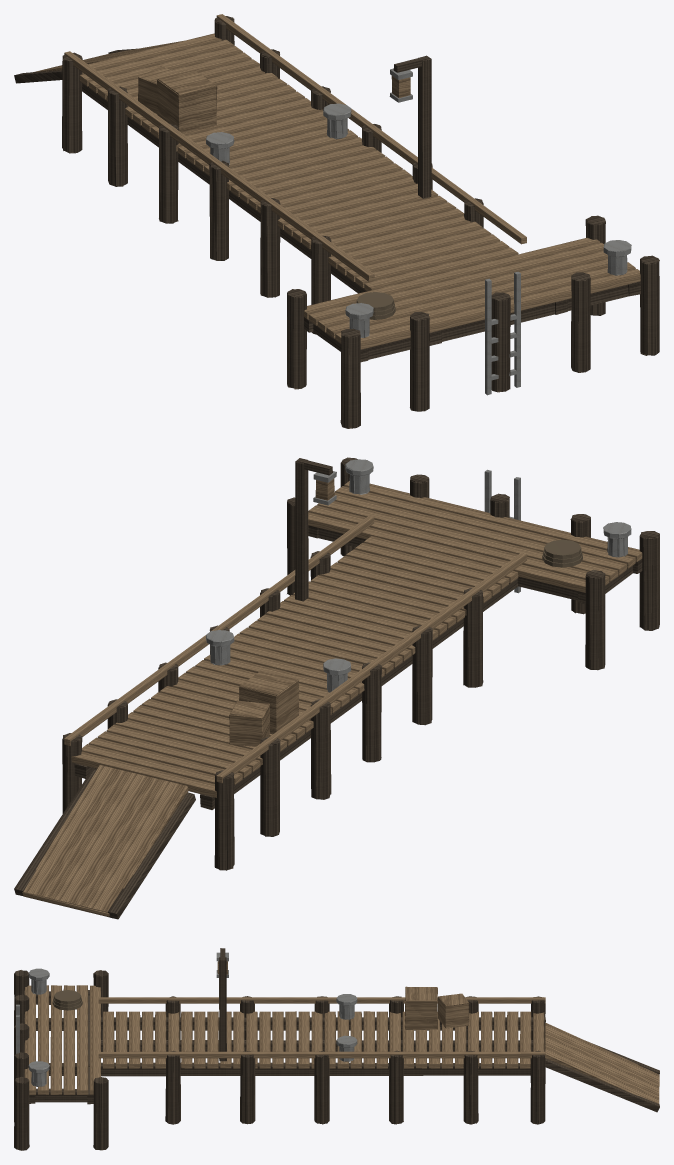
File: harbor_dock.glb
The picture shows the model from 3 angles, top to bottom: view 1: azimuth 30°, elevation 25°; view 2: azimuth 150°, elevation 25°; view 3: azimuth 270°, elevation 25°; orthographic projection. The views are drawn at different scales.
Visible parts, largest first — view 1: HarborDock; view 2: HarborDock; view 3: HarborDock.
Part boxes in pixels (x1=…): HarborDock: x1=14, y1=14, x2=659, y2=428; HarborDock: x1=14, y1=457, x2=659, y2=919; HarborDock: x1=14, y1=948, x2=659, y2=1150.
Bounding box in the file's own units: 6.06 × 3.93 × 14.57.
4 materials, 3 textured.
